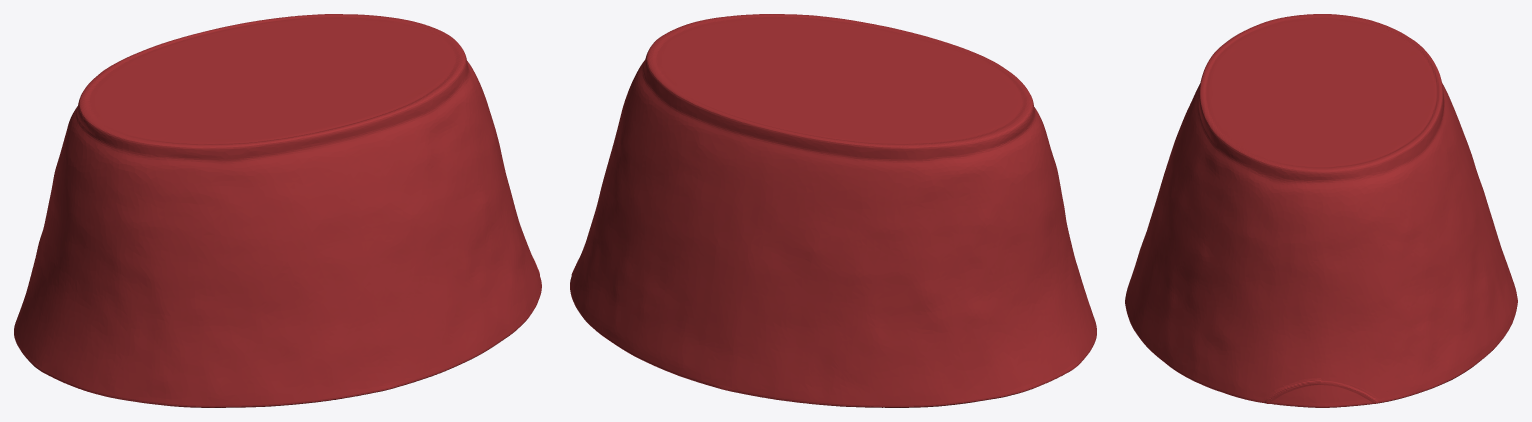
File: skirt.glb
The picture shows the model from 3 angles, left to right: view 1: azimuth 30°, elevation 25°; view 2: azimuth 150°, elevation 25°; view 3: azimuth 270°, elevation 25°; orthographic projection. The views are drawn at different scales.
Parts seen in each view (by area): view 1: geometry_0; view 2: geometry_0; view 3: geometry_0.
Part boxes in pixels (left/top/right/bottom): geometry_0: left=14, top=14, right=541, bottom=407; geometry_0: left=570, top=14, right=1096, bottom=407; geometry_0: left=1125, top=14, right=1517, bottom=407.
Bounding box in the file's own units: 0.6378 × 0.2941 × 0.501.
